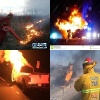fire: (56, 10, 88, 36), (7, 50, 31, 73), (20, 24, 42, 44), (60, 64, 73, 88), (35, 18, 46, 23)
